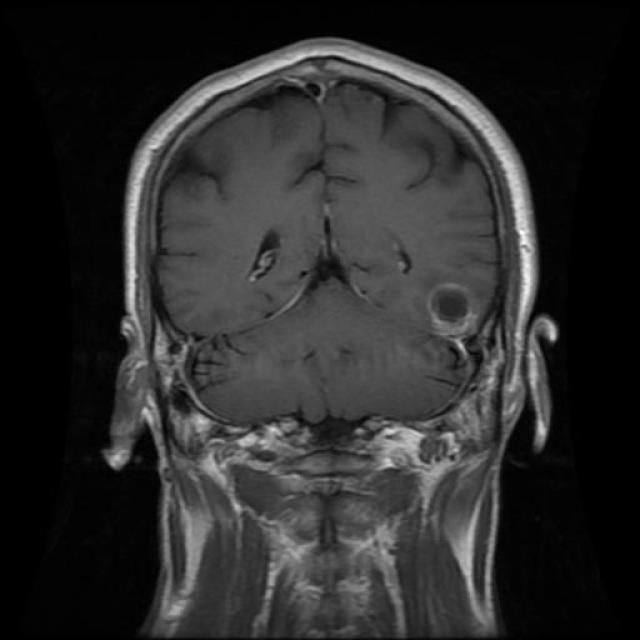glioma: (428, 282, 482, 338)
